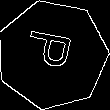P_E: (24, 32, 81, 77)
